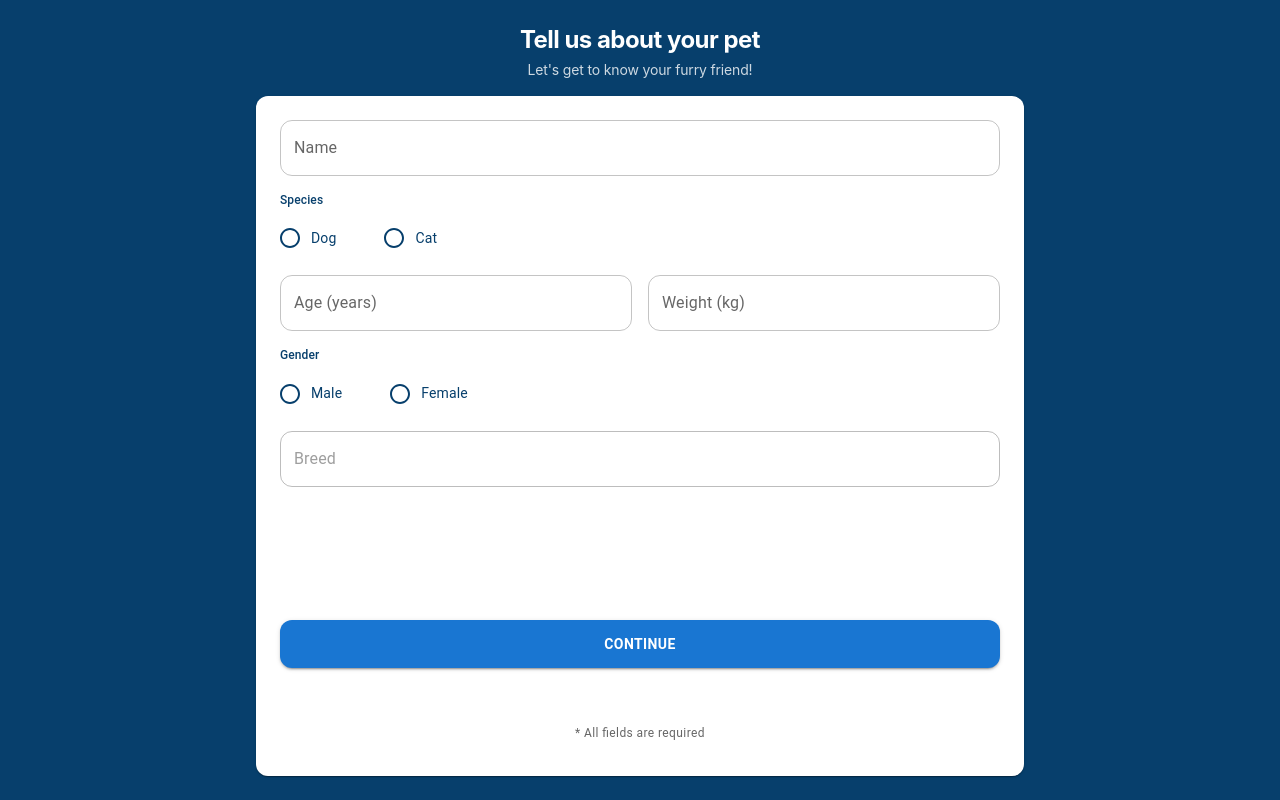
Test case: AddPetPage › should validate all required fields
The image size is (1280, 800).
Fill only name
In the field labelled "Name": (640, 148) left=280, top=120, right=1000, bottom=176, type "Max"
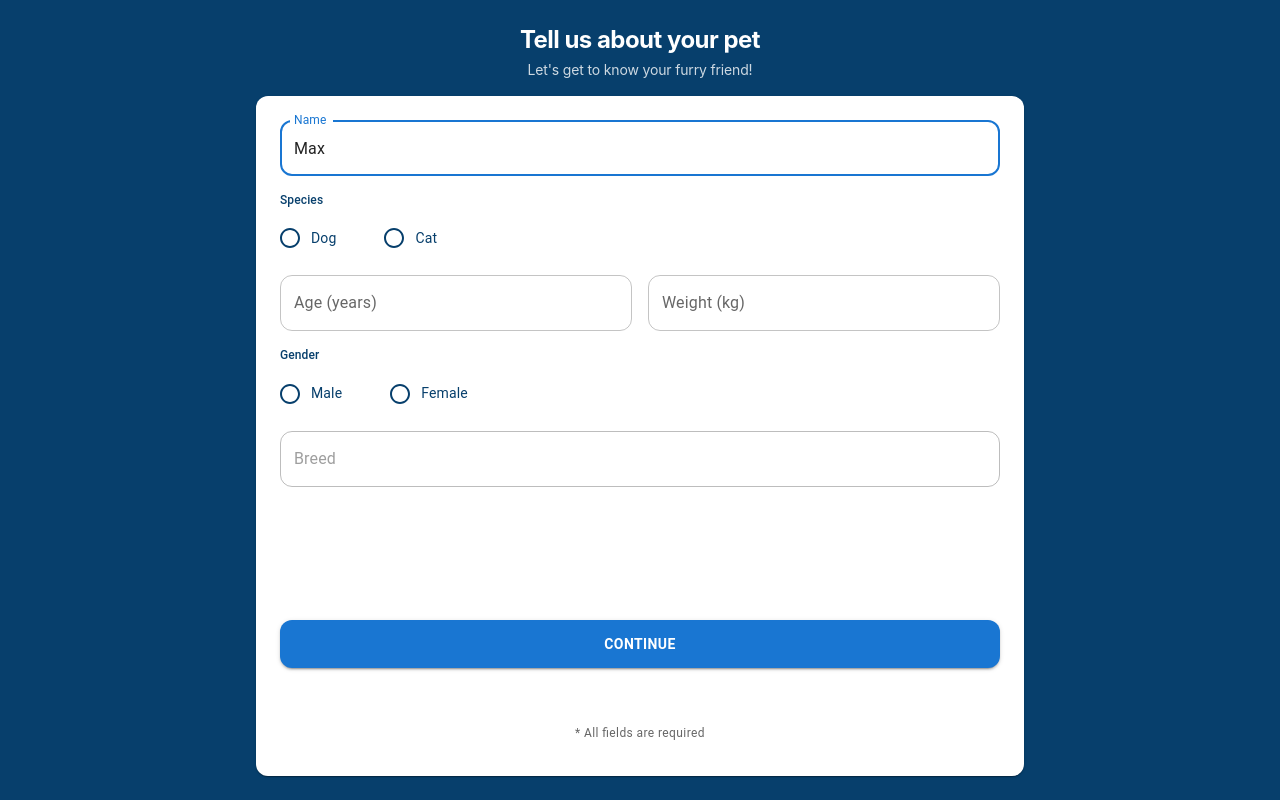
Click the button "Continue": (640, 644) left=280, top=620, right=1000, bottom=668
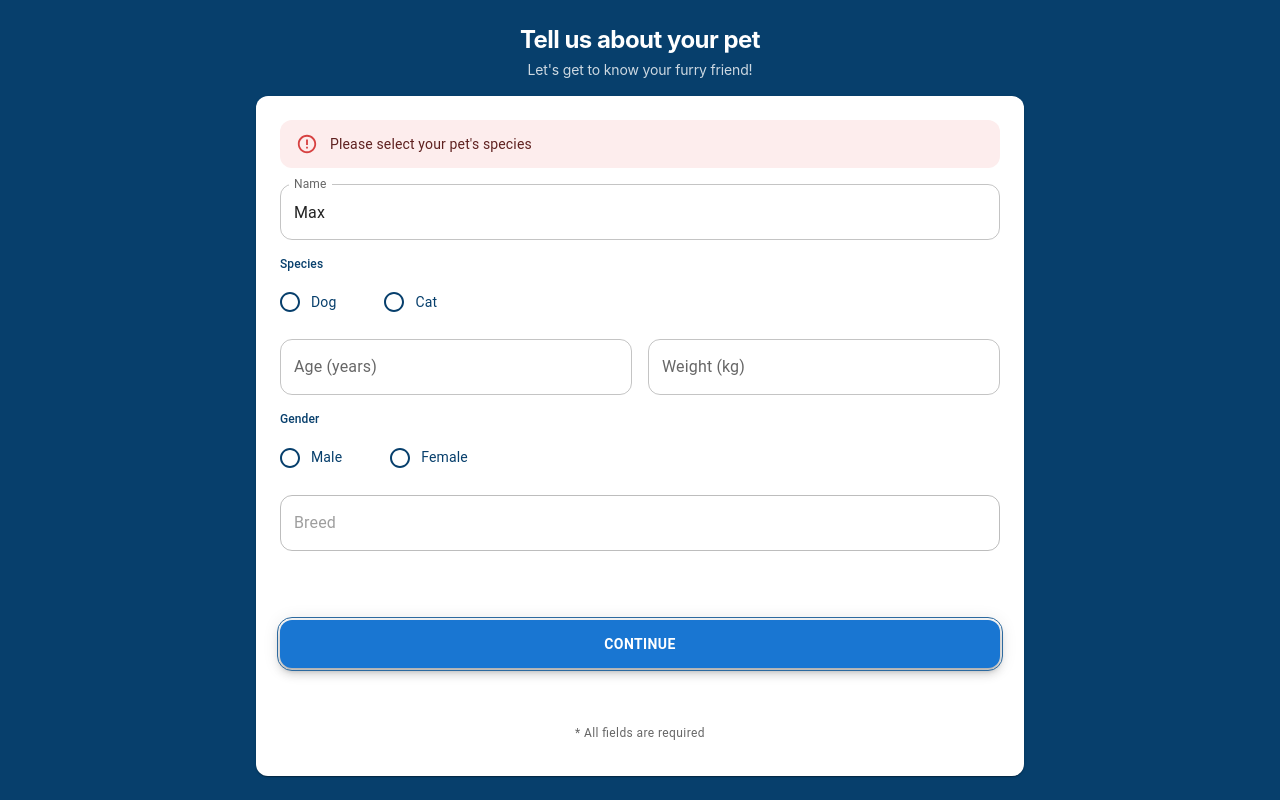
Expected: the text "Please select your pet's species" is shown, left=330, top=136, right=532, bottom=152
